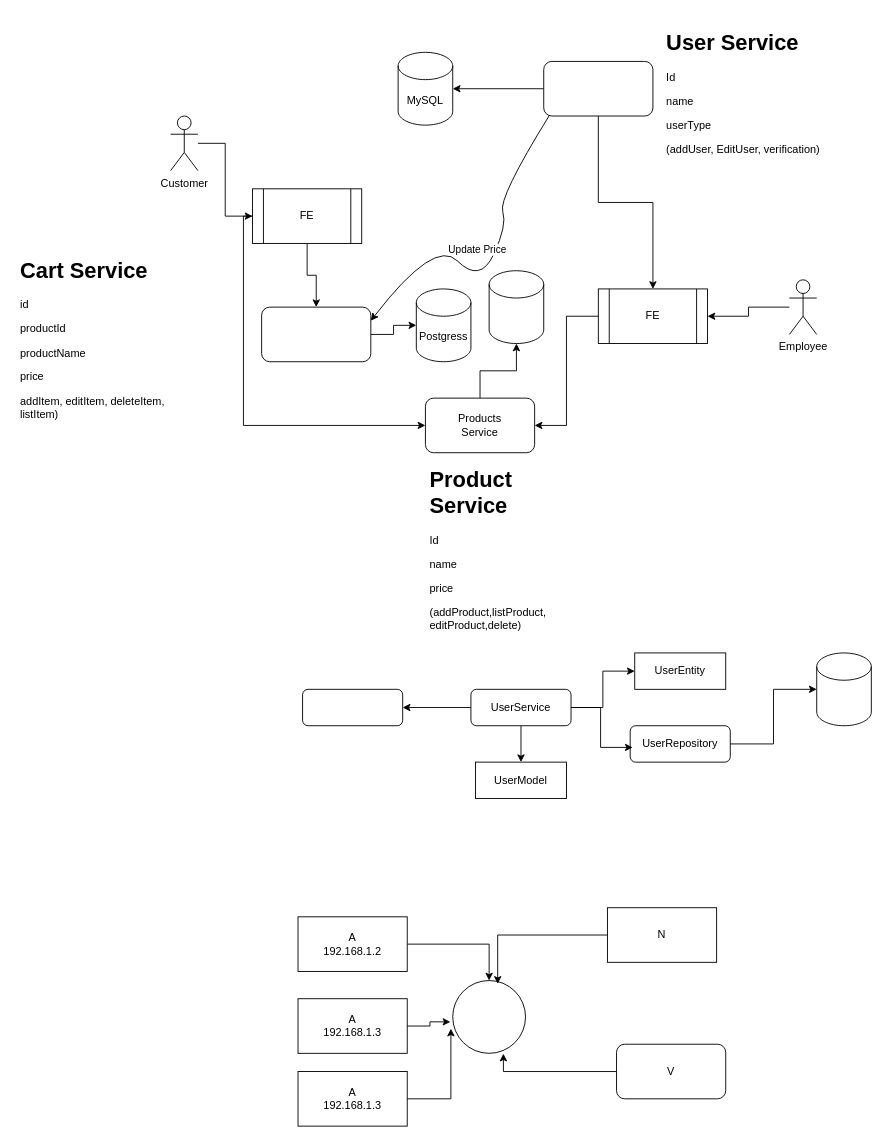
Some shapes in this 887 by 1142 pixel diagram are drawn without their labels. The box of each missing label's shape, as (x1, y1, x2, y2) in pixels:
Cart Service: (261, 306, 371, 362)
DB: (816, 652, 871, 726)
MongoDD: (488, 270, 544, 344)
Service Discovery: (452, 980, 526, 1053)
User Service: (543, 61, 653, 116)
UserController: (302, 688, 403, 726)
